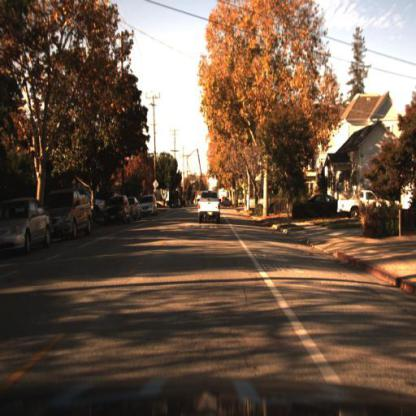car: (40, 186, 93, 246), (1, 197, 52, 259), (51, 187, 96, 244), (339, 190, 389, 218), (295, 192, 342, 221), (101, 195, 132, 230), (304, 192, 342, 213), (105, 195, 131, 225), (198, 192, 222, 224), (141, 192, 159, 218), (96, 189, 107, 217), (131, 197, 142, 223)
